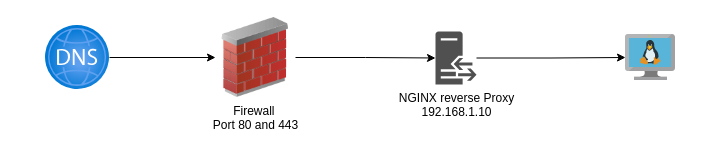
Some shapes in this 724 by 150 pixel diagram are drawn without their labels. Each missing label, with the centre of its shape:
"cloud.yourdomain.com A and AAAA record" belongs at (x=77, y=57).
"Nextcloud on Ubuntu 192.168.1.2" belongs at (x=650, y=57).
